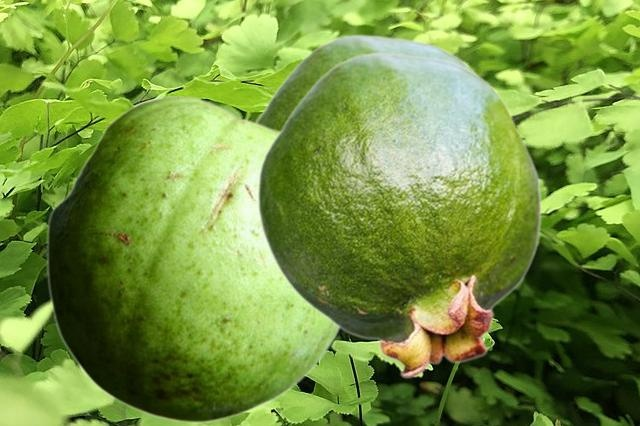guava: (46, 96, 340, 422), (256, 52, 541, 378), (254, 34, 478, 129)
